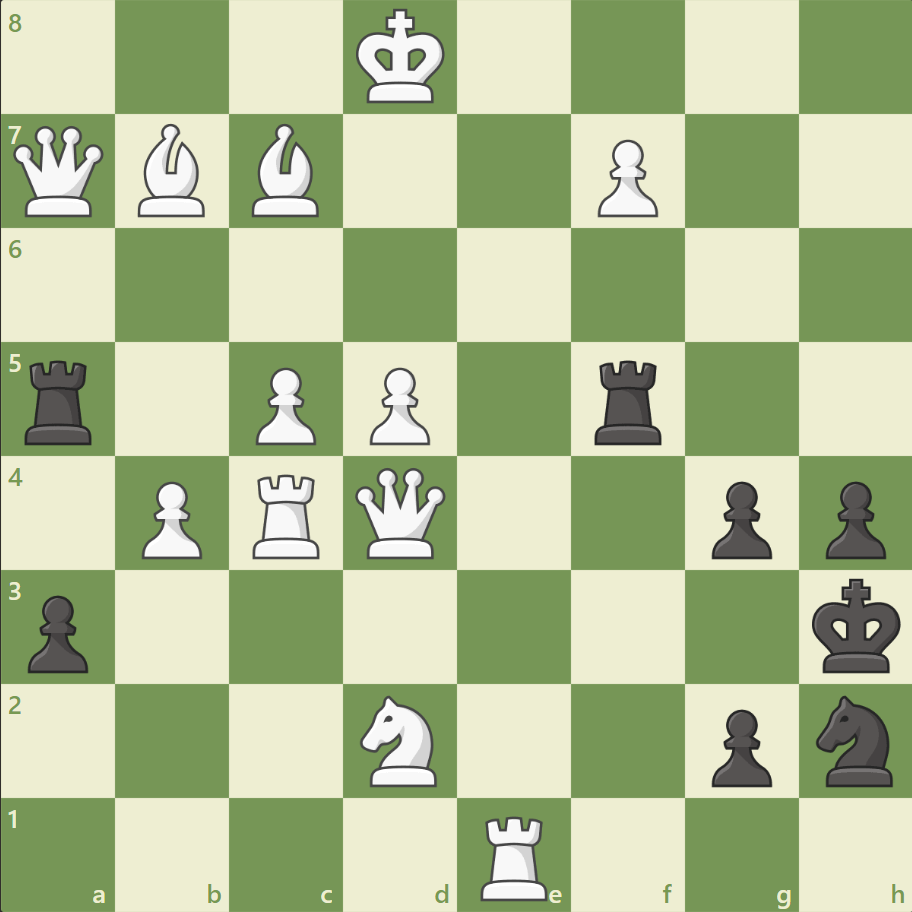B: (131, 120, 215, 222), (244, 120, 328, 222)
K: (351, 4, 451, 112)
N: (351, 688, 449, 791)
P: (247, 359, 322, 450), (133, 473, 208, 564), (588, 132, 662, 223), (361, 359, 435, 450)
Q: (10, 122, 109, 222), (351, 463, 450, 562)
R: (473, 806, 556, 904), (246, 466, 329, 563)
k: (806, 571, 906, 679)
n: (806, 688, 903, 791)
p: (701, 473, 776, 564), (20, 586, 95, 677), (701, 700, 776, 791), (815, 473, 889, 564)
r: (19, 352, 102, 449), (587, 352, 670, 449)
